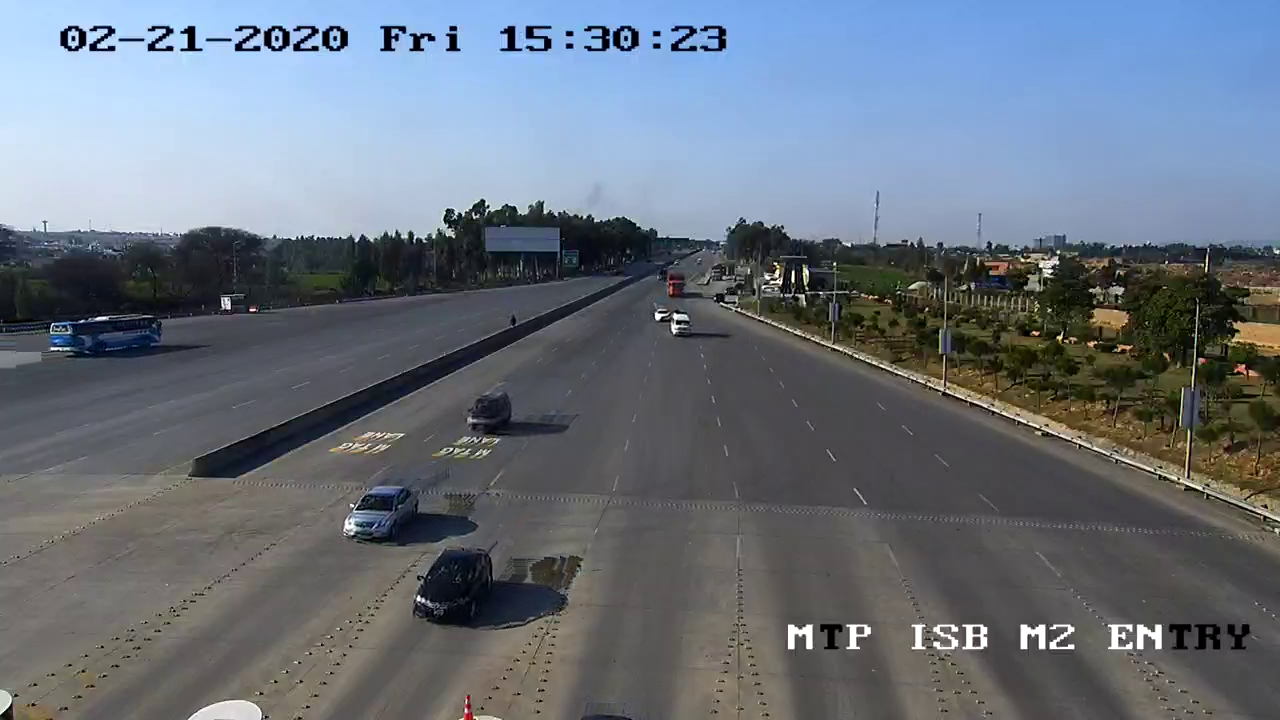f1: (395, 540, 512, 635), (328, 468, 426, 551), (459, 384, 523, 440)
